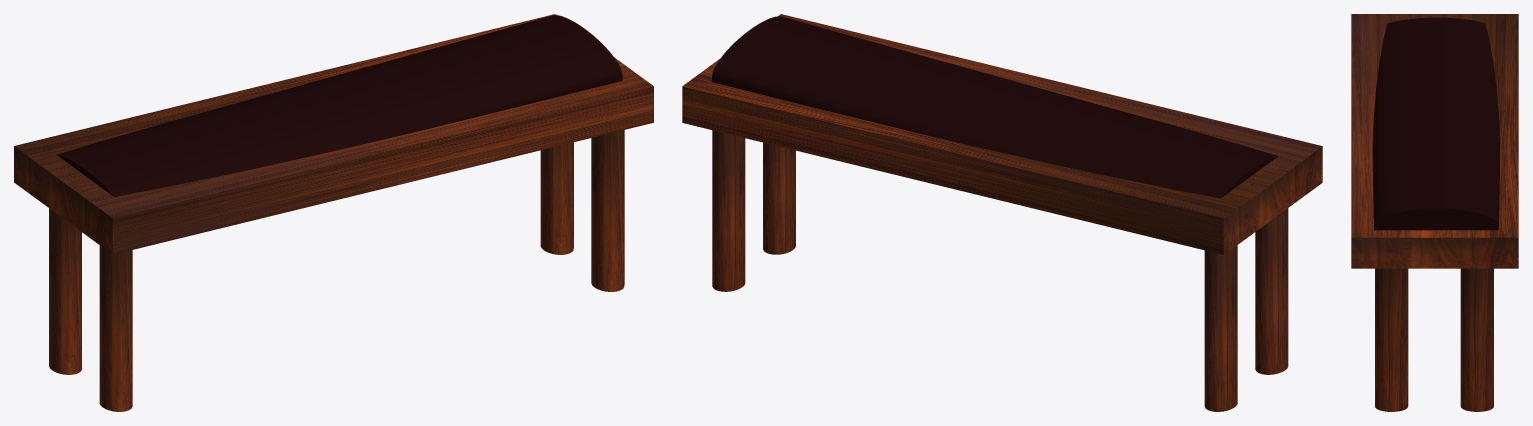
Rendered from pianoSit.FBX.
3 renders of one model, left to right at view 1: azimuth 30°, elevation 25°; view 2: azimuth 150°, elevation 25°; view 3: azimuth 270°, elevation 25°, orthographic. The views are drawn at different scales.
Parts seen in each view (by area): view 1: Box034, Cone005, Cone003, Cone004, Cone002, Cone001; view 2: Box034, Cone005, Cone002, Cone001, Cone003, Cone004; view 3: Cone005, Box034, Cone001, Cone004.
Part boxes in pixels (box(x1,y1,x2,y2)): Box034: box(14, 14, 653, 254); Cone005: box(57, 15, 622, 196); Cone003: box(99, 245, 132, 411); Cone004: box(591, 130, 624, 291); Cone002: box(49, 208, 81, 374); Cone001: box(540, 142, 573, 254); Box034: box(682, 14, 1322, 254); Cone005: box(711, 16, 1278, 198); Cone002: box(1204, 245, 1237, 411); Cone001: box(712, 130, 745, 291); Cone003: box(1255, 208, 1288, 374); Cone004: box(763, 142, 795, 254); Cone005: box(1372, 17, 1499, 230); Box034: box(1351, 14, 1518, 268); Cone001: box(1460, 268, 1493, 411); Cone004: box(1375, 268, 1408, 411).
Size of the model in its own units: 63.53 by 26.36 by 20.08.
